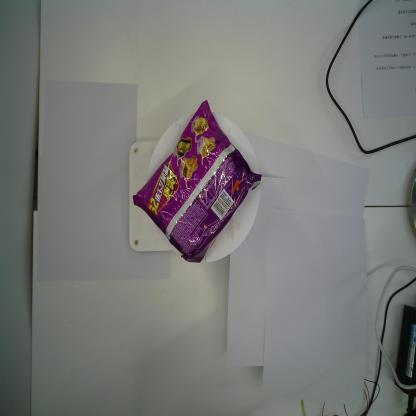Instant Noodles: (132, 100, 262, 264)
